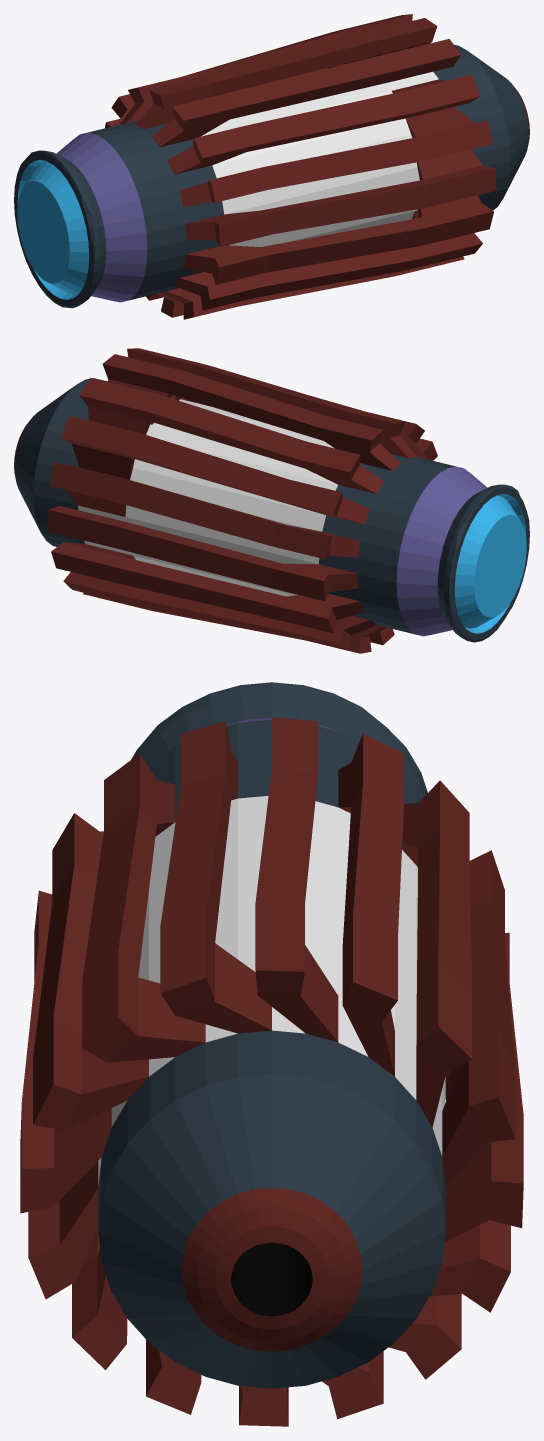
Rendered from GrappleLower.fbx.
The picture shows the model from 3 angles, top to bottom: view 1: azimuth 30°, elevation 25°; view 2: azimuth 150°, elevation 25°; view 3: azimuth 270°, elevation 25°; orthographic projection. The views are drawn at different scales.
Parts seen in each view (by area): view 1: Cylinder.009; view 2: Cylinder.009; view 3: Cylinder.009.
Part boxes in pixels (x1=…): Cylinder.009: x1=14, y1=14, x2=529, y2=319; Cylinder.009: x1=14, y1=348, x2=529, y2=653; Cylinder.009: x1=20, y1=682, x2=523, y2=1426.
Bounding box in the file's own units: 58.43 × 26.95 × 26.95.
